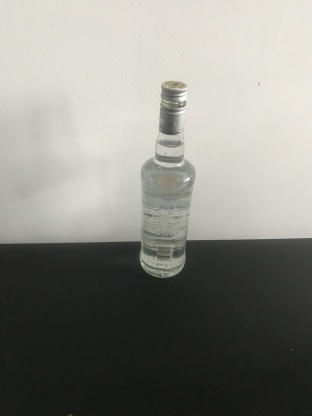nakretka: (157, 78, 188, 136)
